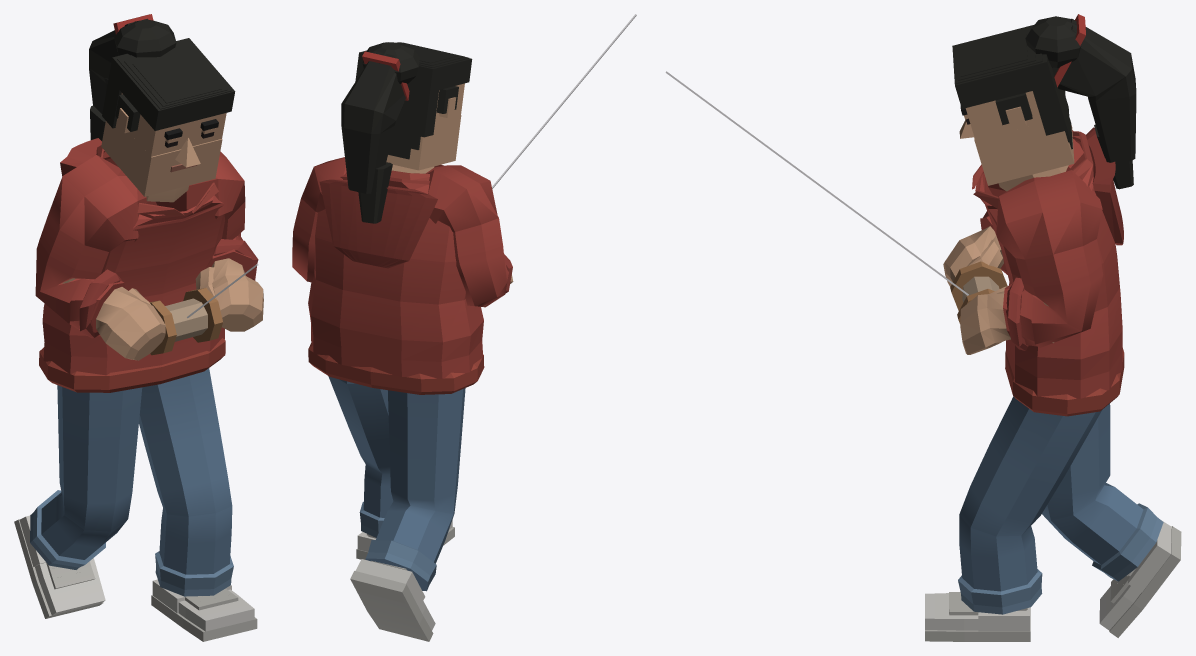
The model's file is kite-kid-0a7d70__walk1.glb.
The picture shows the model from 3 angles, left to right: view 1: azimuth 30°, elevation 25°; view 2: azimuth 150°, elevation 25°; view 3: azimuth 270°, elevation 25°; orthographic projection. The views are drawn at different scales.
Visible parts, largest first — view 1: kite-kid-0a7d70__walk1; view 2: kite-kid-0a7d70__walk1; view 3: kite-kid-0a7d70__walk1.
Boxes of the visible parts, <box> form: kite-kid-0a7d70__walk1: <box>14,14,263,641</box>; kite-kid-0a7d70__walk1: <box>292,14,636,641</box>; kite-kid-0a7d70__walk1: <box>665,14,1181,641</box>.
Size of the model in its own units: 0.4672 by 1.24 by 0.9285.
